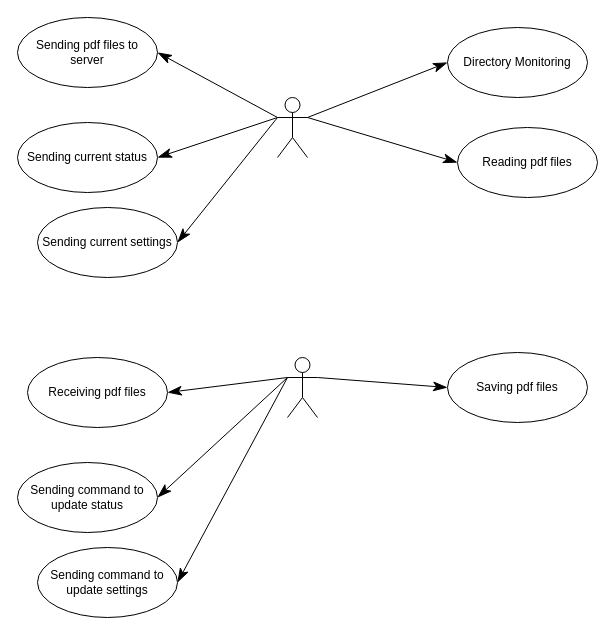
Image size: 615x635. Some labels were removed from this diagram. Here are the shapes that lost their labels. From the top down, the centre of each, then its label:
At point (292, 127): "Directory Listener".
At point (302, 387): "Server".
